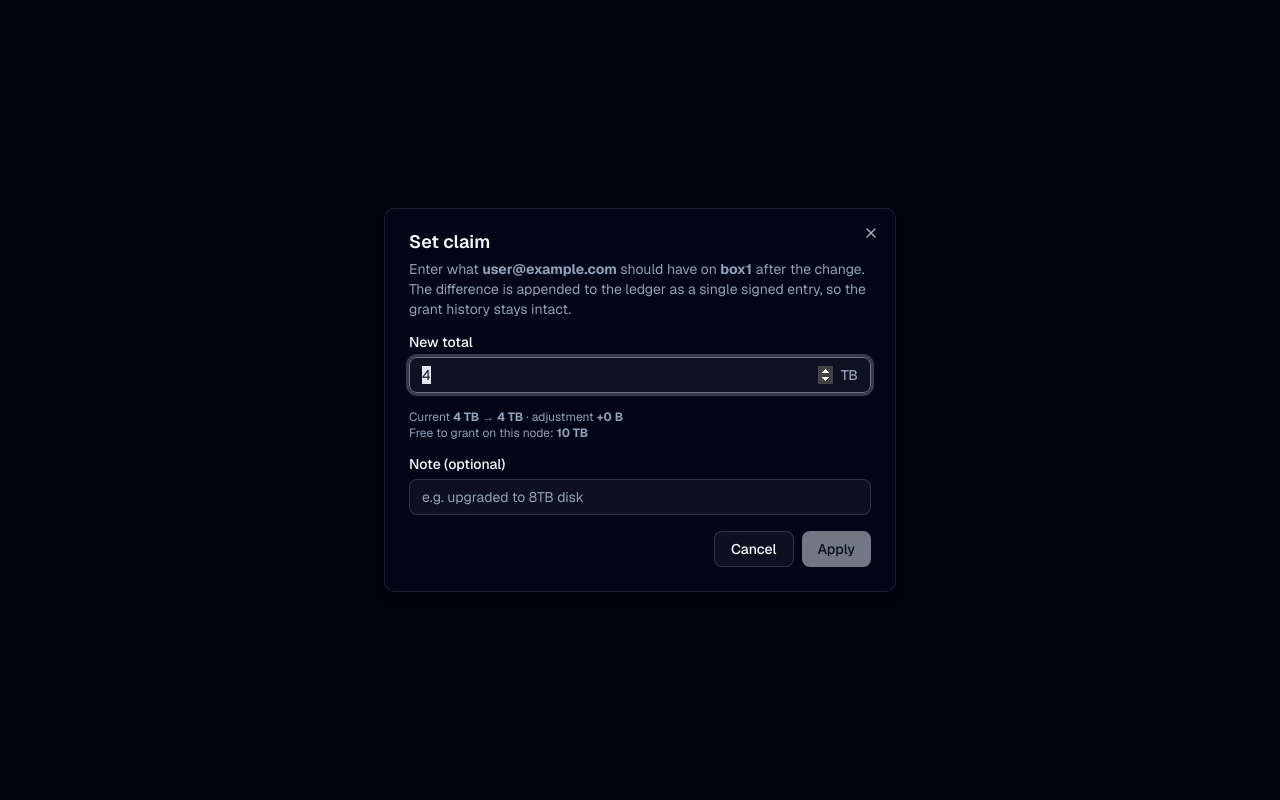
Test: SetClaimDialog › blocks a target below zero
The width and height of the screenshot is (1280, 800).
Replace the text in the number field labelled "New total" with "-1" at (625, 375), box [410,357,841,393]
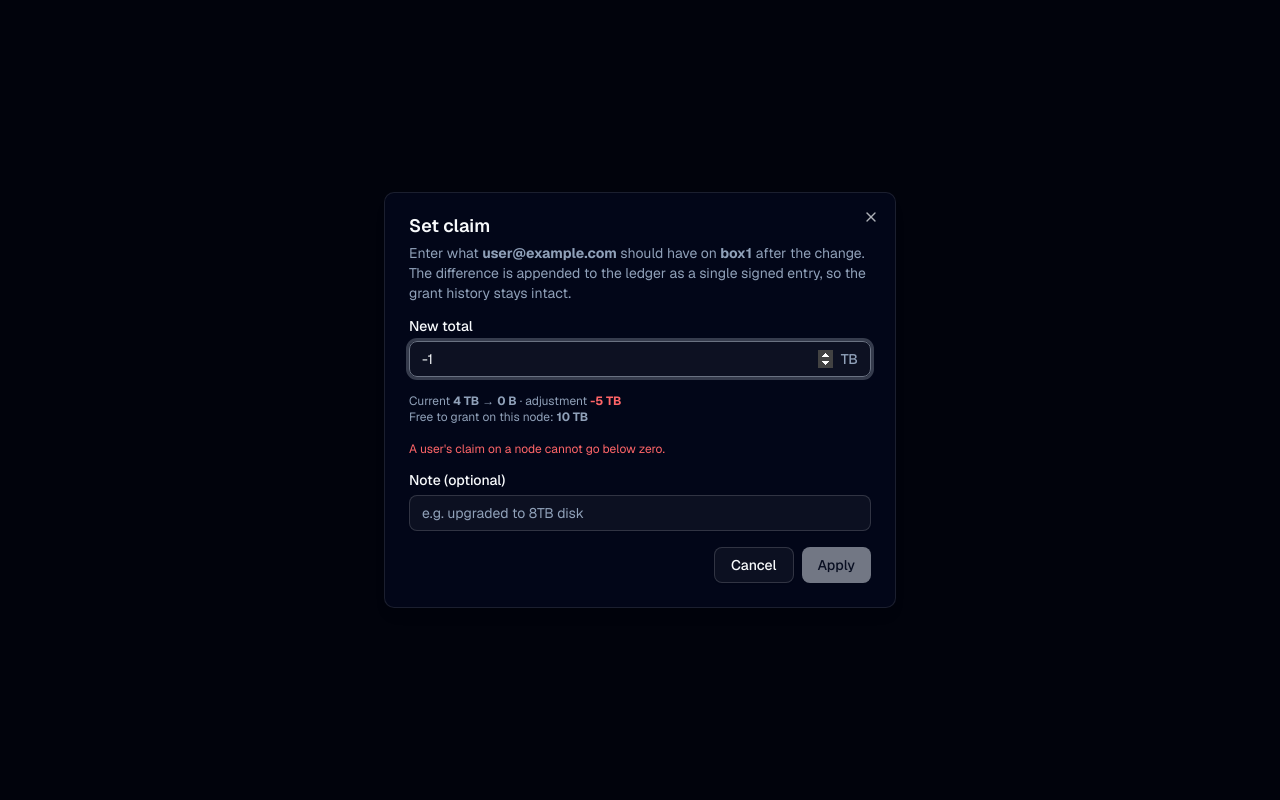
expect the button "Apply" is disabled: met, box [802,547,871,583]
expect the text "A user's claim on a node cannot go below zero." is shown: met, box [409,441,665,457]
